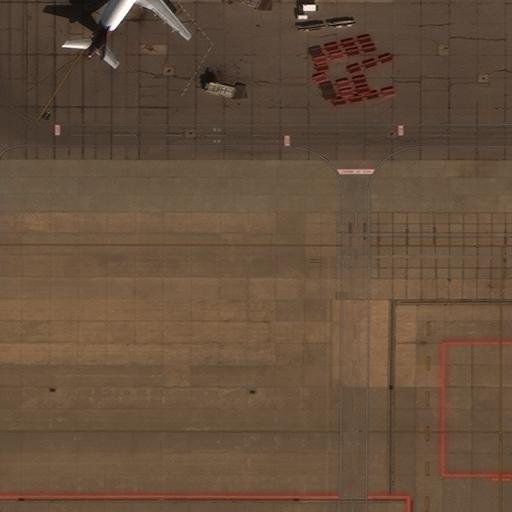Large Civil Transport: (59, 0, 190, 58)
